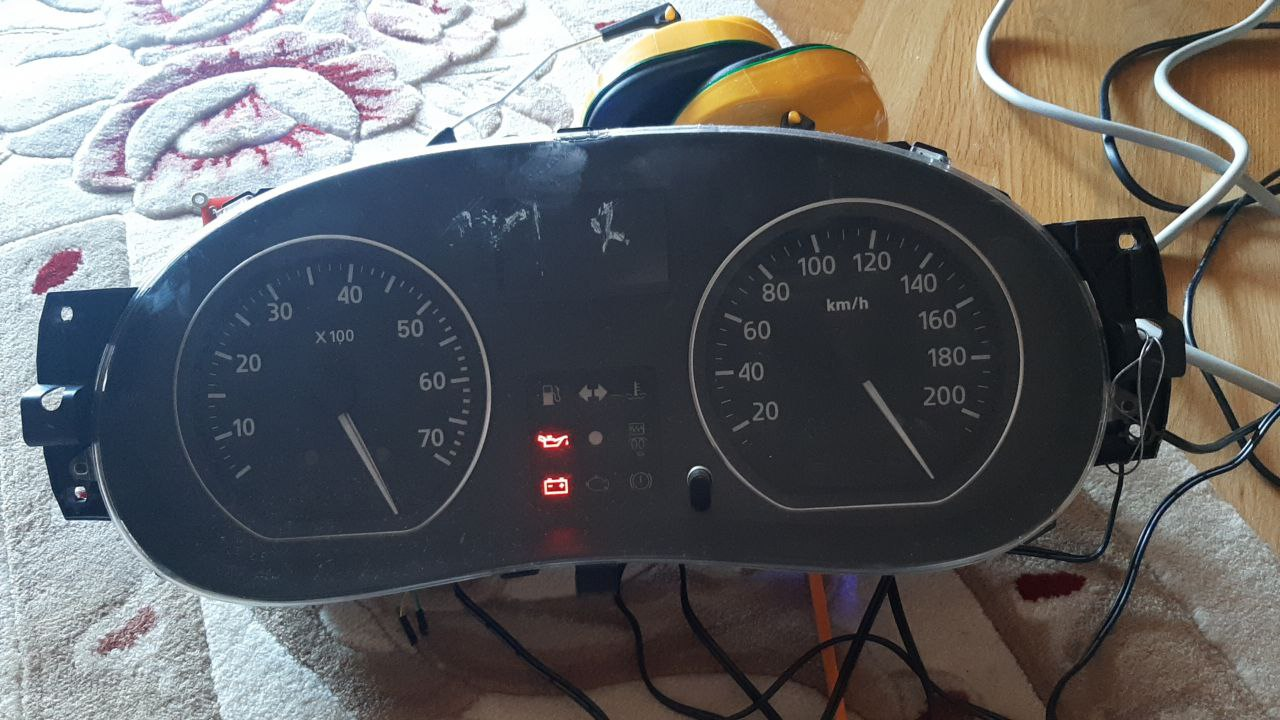accumulator: (538, 475, 576, 498)
oil: (529, 427, 572, 451)
